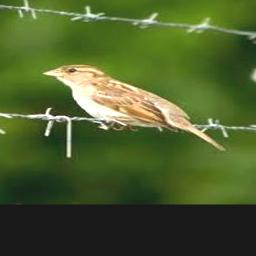Sparrow: (42, 64, 227, 151)
